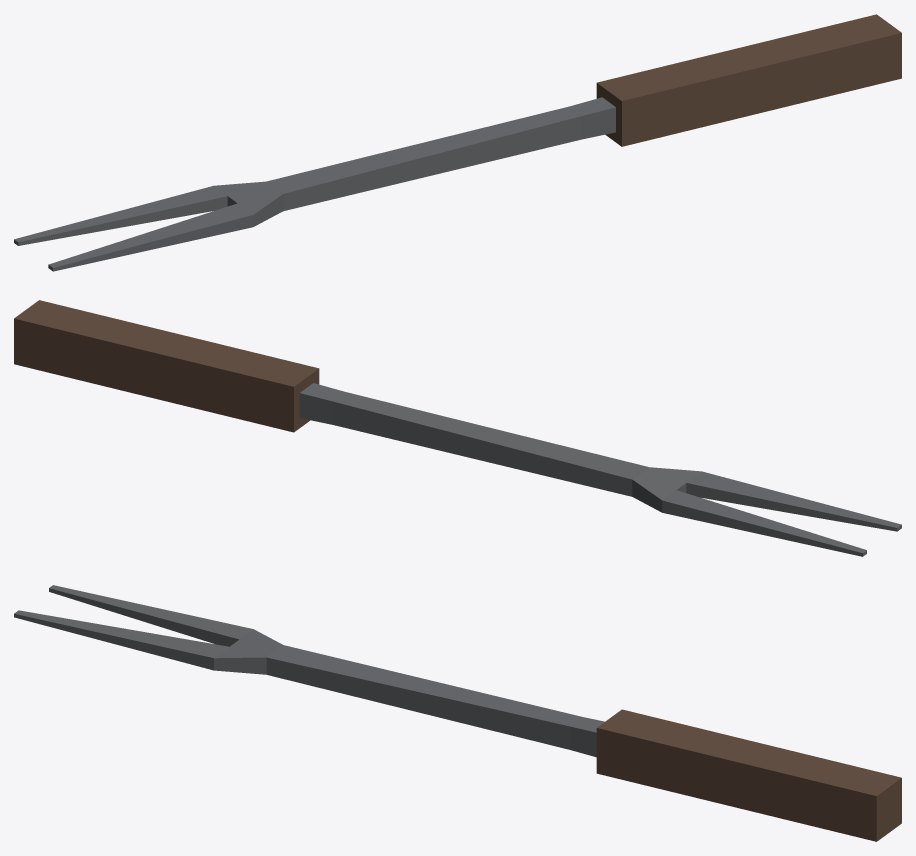
File: fork.fbx
3 views of the same model, one above another, from view 1: azimuth 30°, elevation 25°; view 2: azimuth 150°, elevation 25°; view 3: azimuth 330°, elevation 25° (orthographic).
Visible parts, largest first — view 1: fork; view 2: fork; view 3: fork.
Boxes of the visible parts, x1,y1,x2,y2 form: fork: (14,14,901,271); fork: (14,300,901,556); fork: (14,585,901,841).
Bounding box in the file's own units: 61.77 × 3.16 × 4.97.
Materials: 1 (1 with a texture image).
